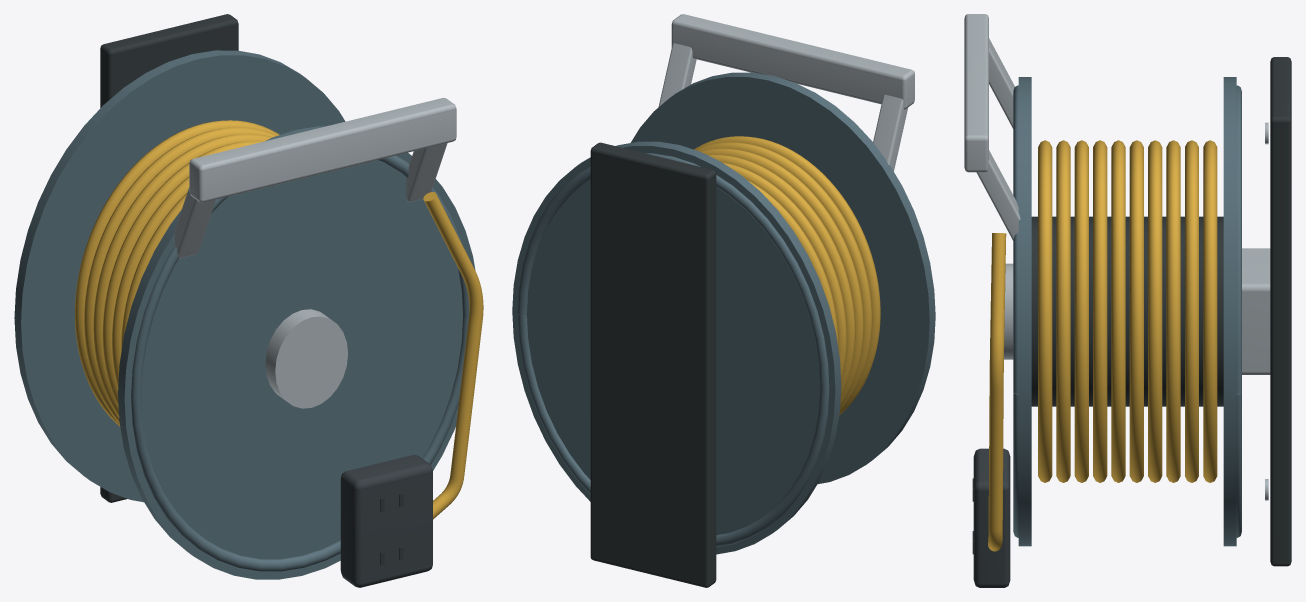
Rendered from garage-cord-reel.glb.
3 views of the same model, side by side, from view 1: azimuth 30°, elevation 25°; view 2: azimuth 150°, elevation 25°; view 3: azimuth 270°, elevation 25° (orthographic). The views are drawn at different scales.
Visible parts, largest first — view 1: catalog_surface_RealismUV; view 2: catalog_surface_RealismUV; view 3: catalog_surface_RealismUV.
Part boxes in pixels (x1,y1,x2,y2): catalog_surface_RealismUV: [14, 14, 483, 587]; catalog_surface_RealismUV: [512, 14, 935, 587]; catalog_surface_RealismUV: [964, 14, 1291, 587].
Size of the model in its own units: 0.31 by 0.39 by 0.25.
